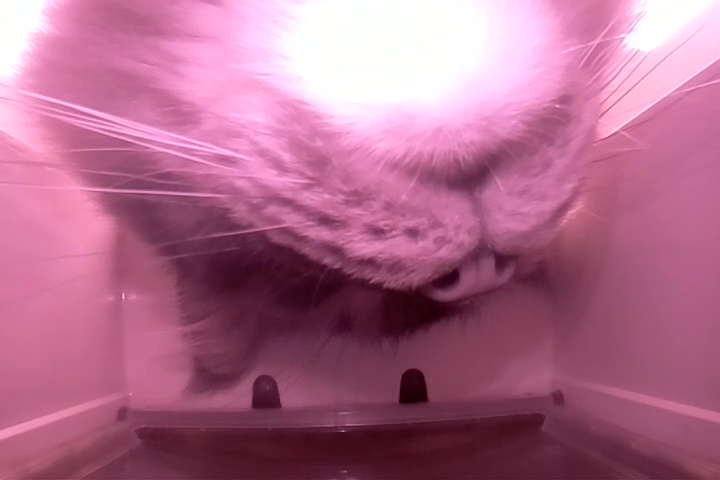Snout: (276, 77, 611, 322)
